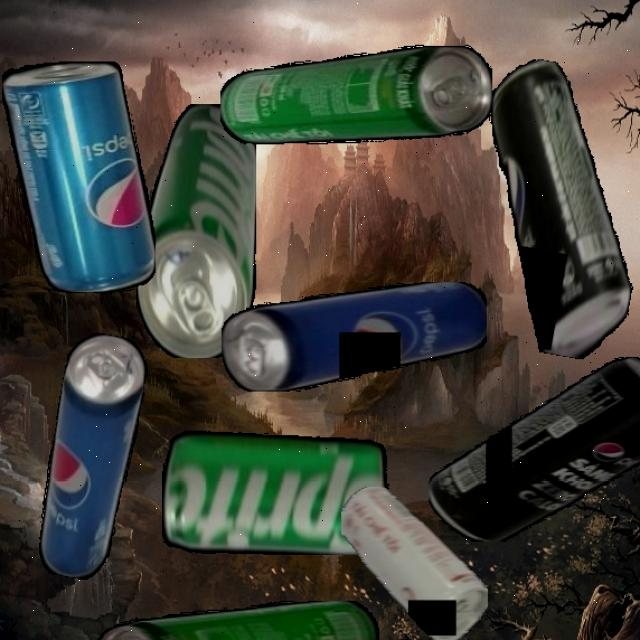debris: (448, 52, 640, 365), (428, 355, 640, 541), (161, 390, 391, 555), (1, 62, 156, 293), (30, 329, 152, 584), (136, 103, 256, 358), (222, 280, 486, 392), (220, 45, 492, 144), (341, 485, 487, 640), (95, 599, 379, 640)
